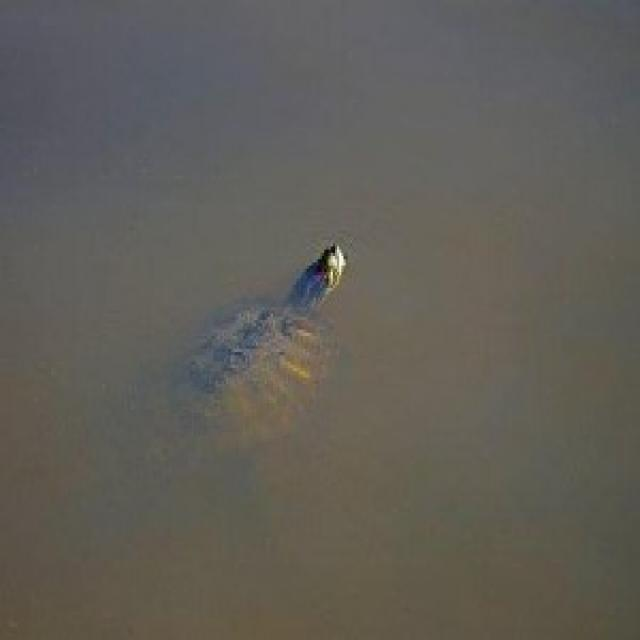Sea turtle: (133, 192, 382, 480)
